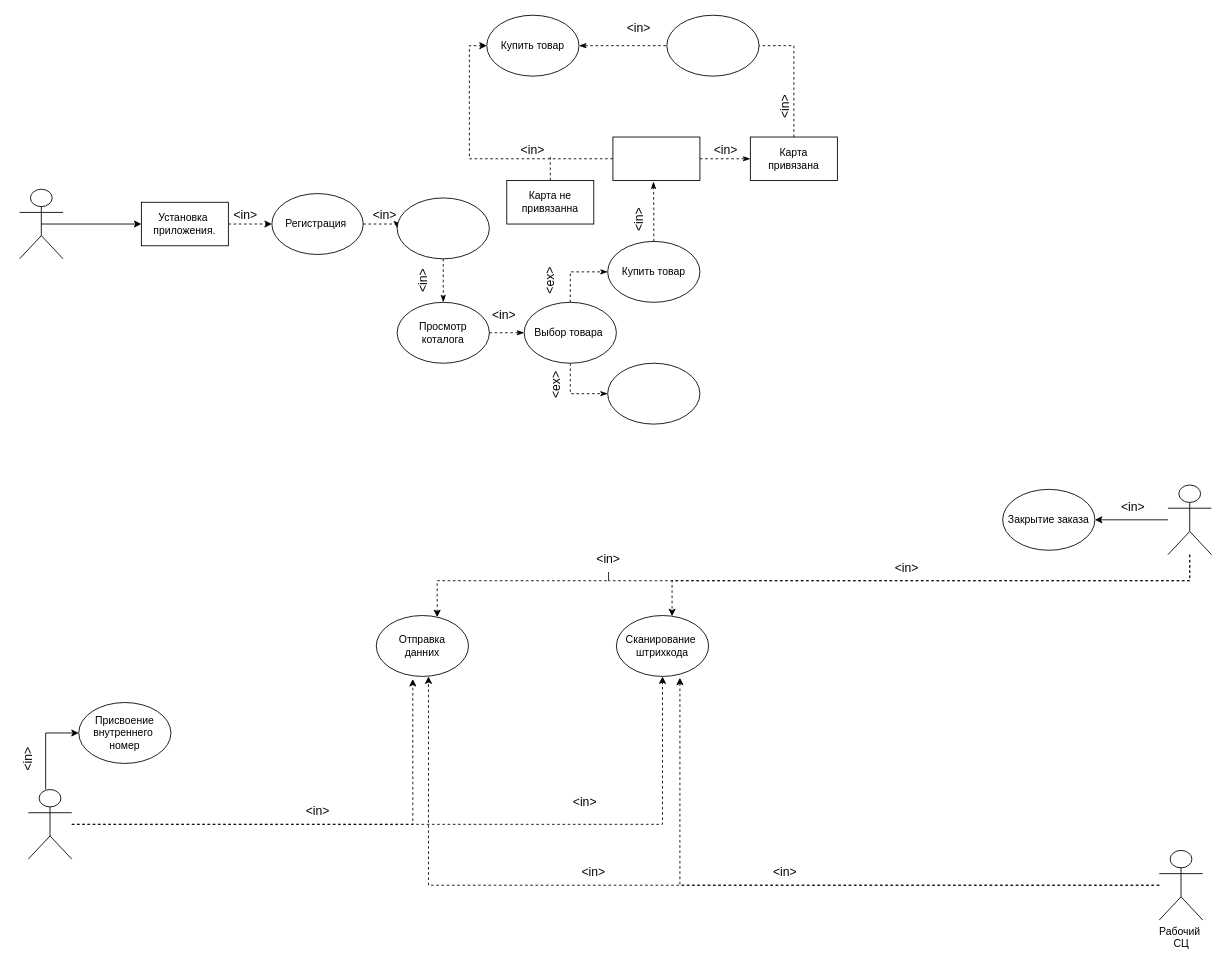
This 1227x967 diagram has some shape labels left out. Here are the shapes that lost their labels. From the top down, the centre of each, then its label:
the point at 712,45: Ввод данных
the point at 656,158: Оплата
the point at 41,223: Клиент
the point at 442,228: Авторизация
the point at 653,393: Не купить товар
the point at 1189,519: Рабочий Пункта выдачи
the point at 49,824: Рабочий склада
